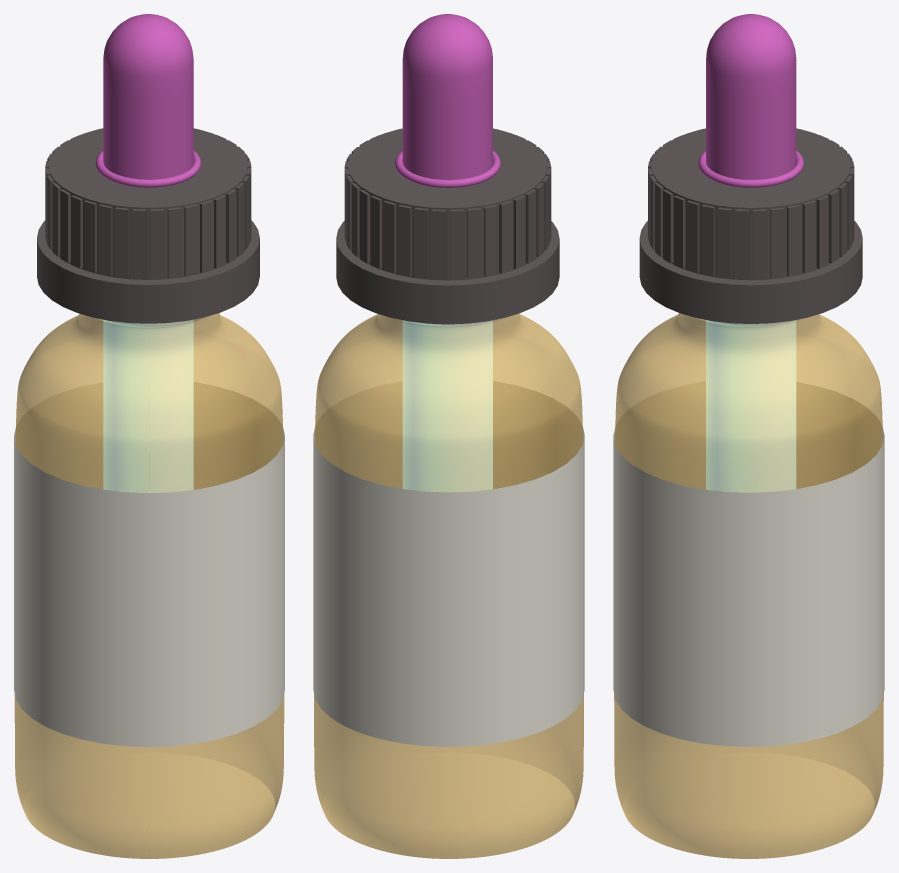
File: affix_dropper.glb
3 views of the same model, side by side, from view 1: azimuth 30°, elevation 25°; view 2: azimuth 150°, elevation 25°; view 3: azimuth 270°, elevation 25° (orthographic).
Parts seen in each view (by area): view 1: affix_dropper; view 2: affix_dropper; view 3: affix_dropper.
Boxes of the visible parts, x1,y1,x2,y2 form: affix_dropper: (14, 14, 284, 858); affix_dropper: (313, 14, 584, 858); affix_dropper: (613, 14, 884, 858).
Size of the model in its own units: 0.0999 by 0.32 by 0.0999.
